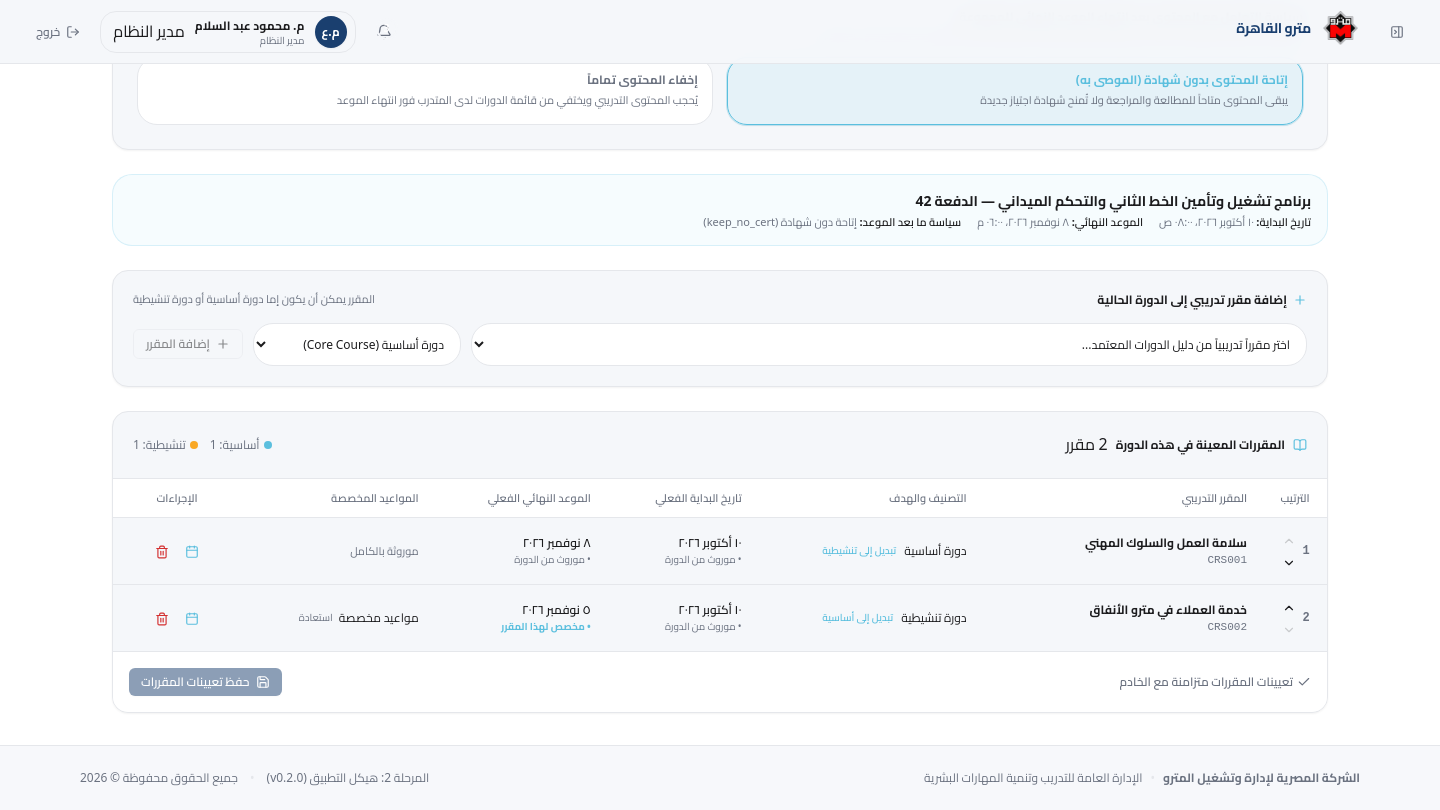
Test: Increment 10 — Phase 5: Course Assignment, Renewal Schedules & Date Overrides › 4. Add/Remove Courses and API Persistence › removes a course assignment from active cycle and updates state
The image size is (1440, 810).
(page scrolled)
Expected: the row with test id "course-row-CRS002" is shown, [113,585,1327,651]
# Remove CRS002
Click the button with test id "remove-course-btn-CRS002". click: click(162, 618)
box: [149,604,175,632]
(page scrolled)
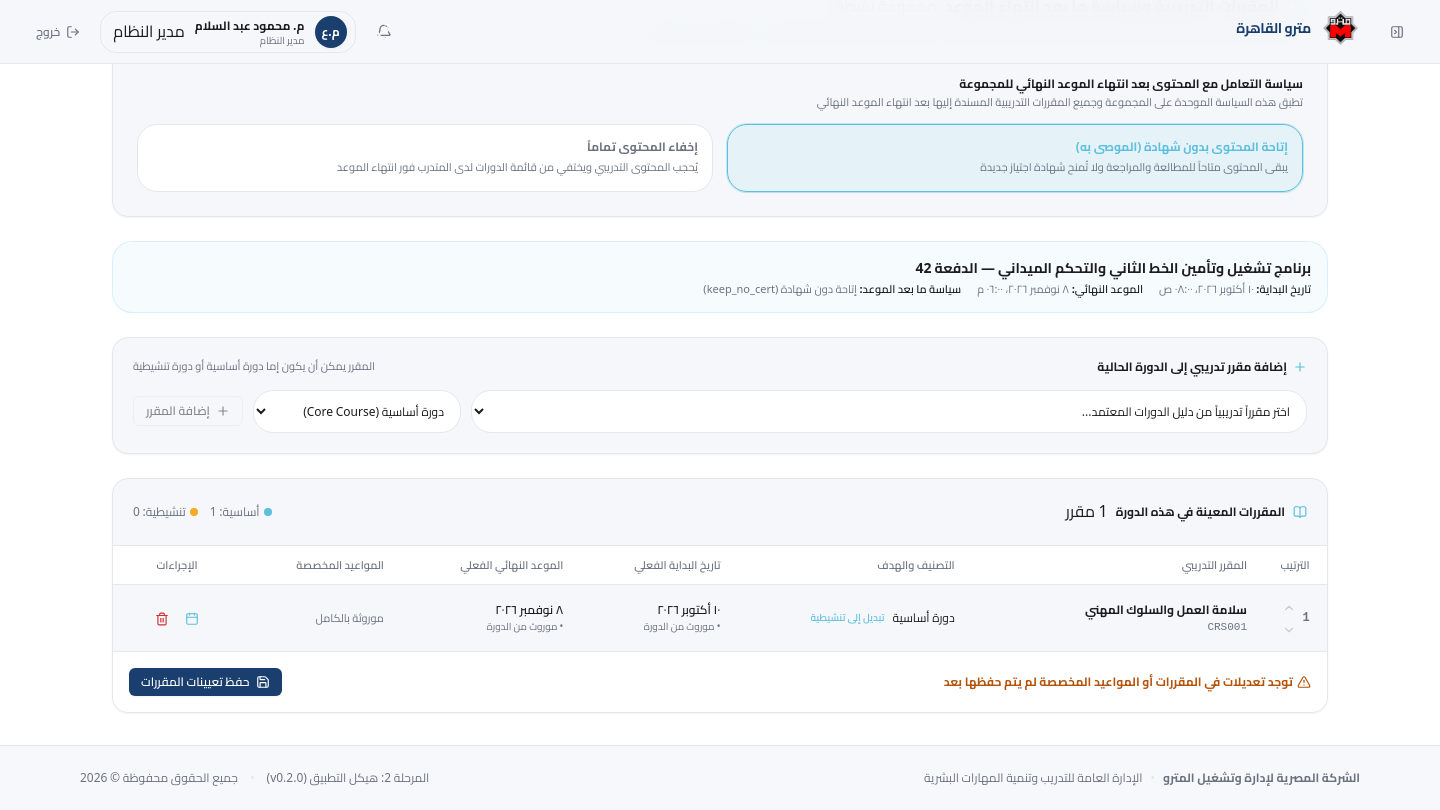
Now the row with test id "course-row-CRS002" is gone
# Save assignments
Click the button with test id "save-cycle-courses-btn". click: click(205, 682)
box: [129,668,282,696]
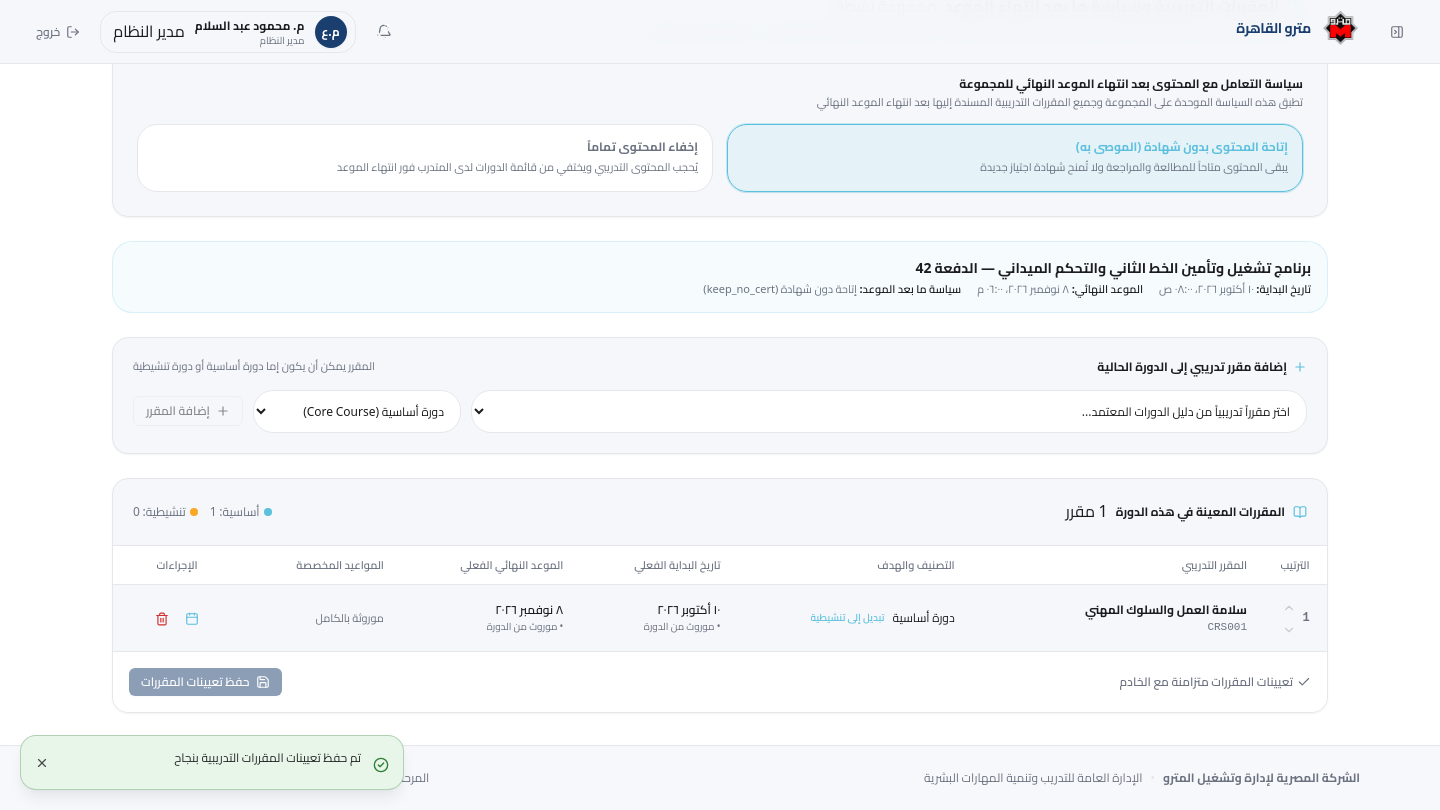
Expected: the text "CRS001" is shown, [1207,621,1247,633]
Now the text "تعيينات المقررات متزامنة مع الخادم" is shown, box [1120,674,1293,690]
